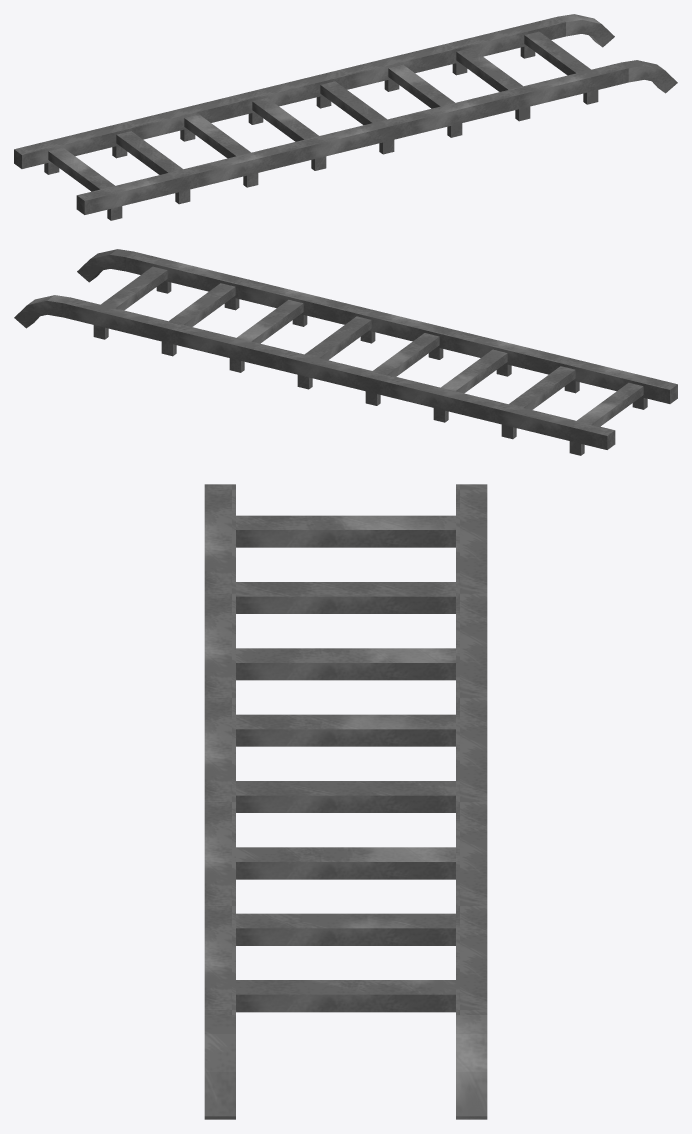
File: ladder-end.FBX
3 views of the same model, one above another, from view 1: azimuth 30°, elevation 25°; view 2: azimuth 150°, elevation 25°; view 3: azimuth 270°, elevation 25° (orthographic). The views are drawn at different scales.
Parts seen in each view (by area): view 1: Box001; view 2: Box001; view 3: Box001.
Boxes of the visible parts, <box> form: Box001: <box>14,14,677,220</box>; Box001: <box>14,249,677,455</box>; Box001: <box>204,484,487,1119</box>.
Size of the model in its own units: 2.18 by 0.1205 by 0.45.
Materials: 1 (1 with a texture image).
